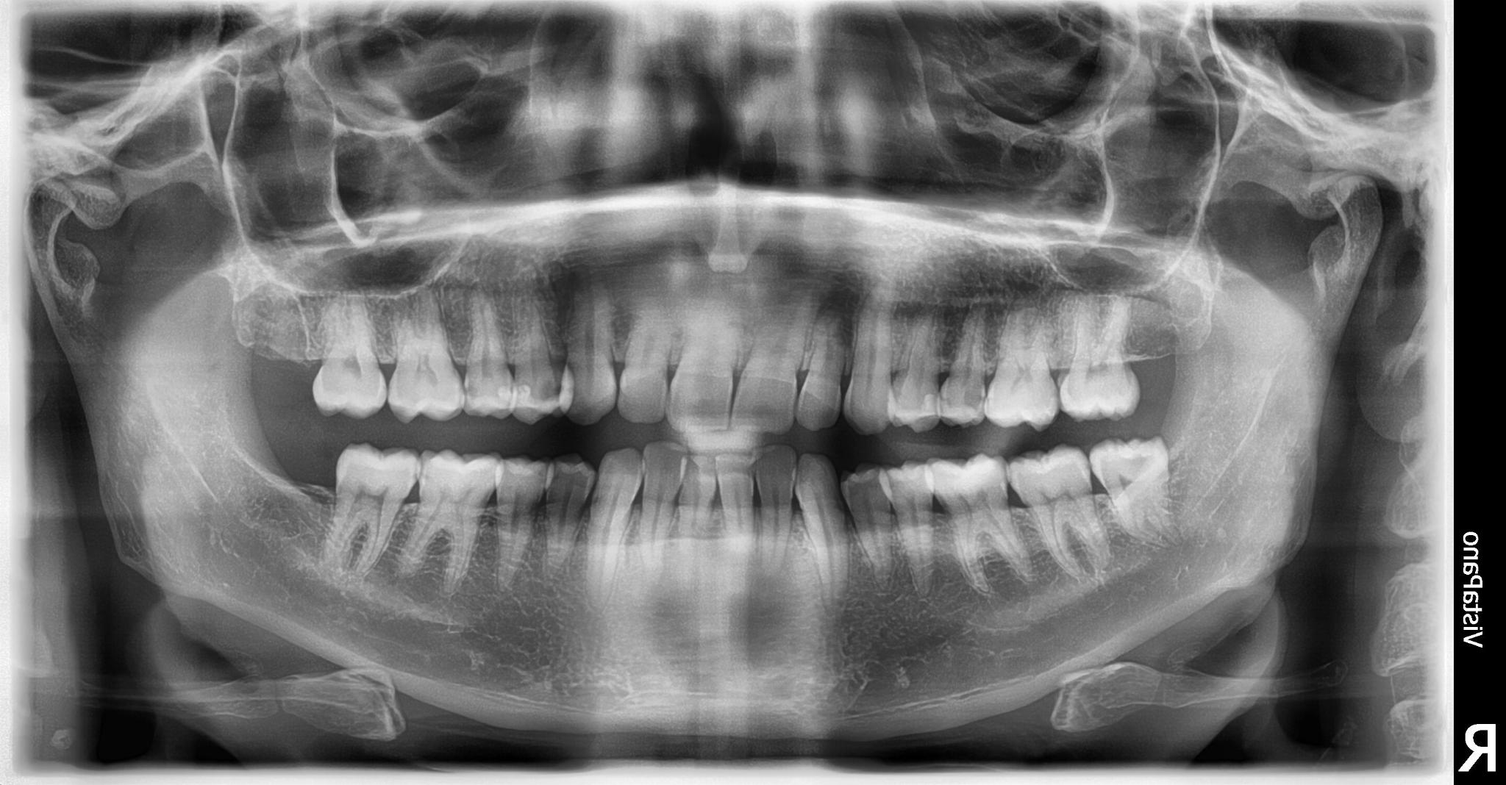Premolars: (554, 231, 1506, 669), (585, 214, 1506, 644), (491, 212, 1488, 528), (254, 240, 752, 695), (244, 217, 762, 632), (215, 234, 635, 676), (292, 198, 841, 472)
